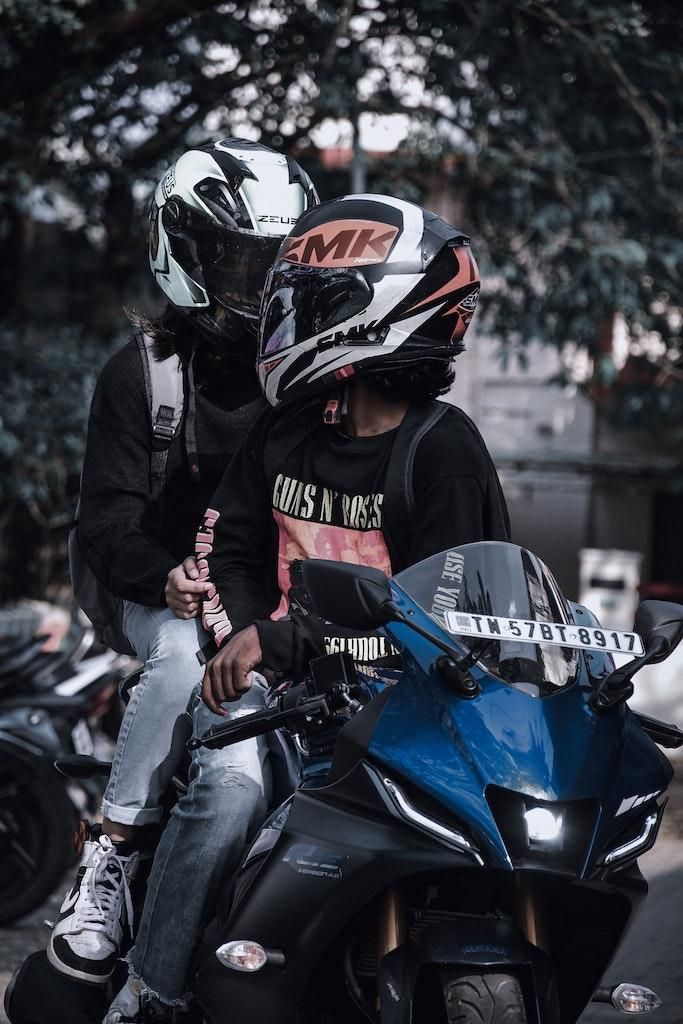helmet: (254, 190, 482, 439), (146, 135, 332, 360)
